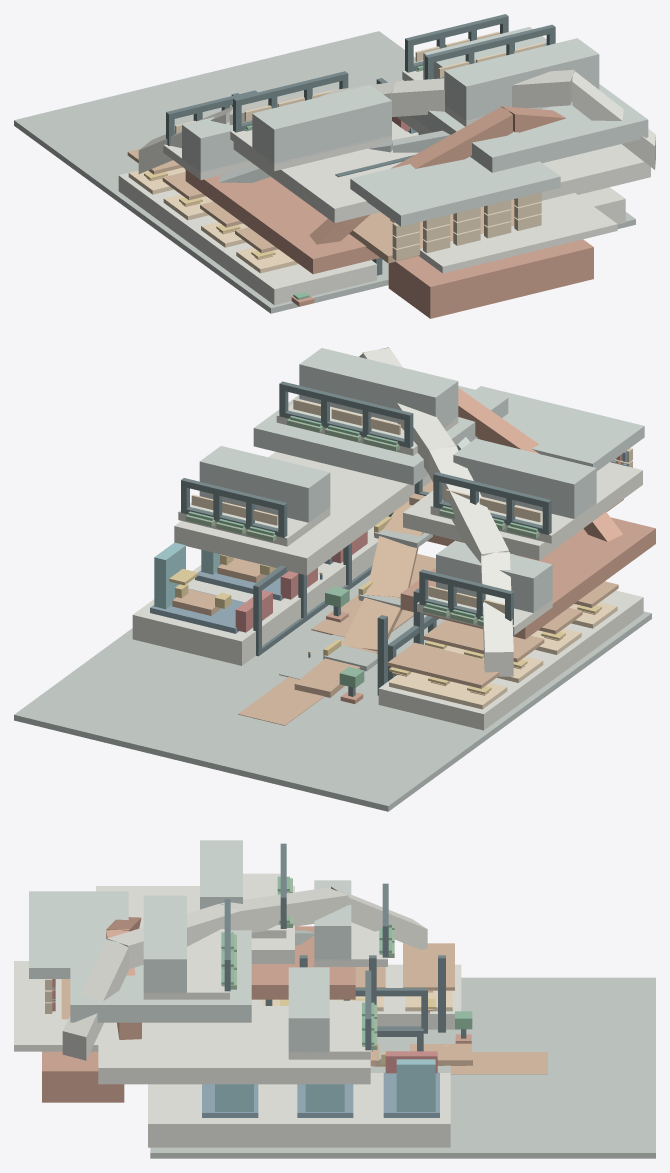
Rendered from a43_inhabited_seam.glb.
3 renders of one model, top to bottom at view 1: azimuth 30°, elevation 25°; view 2: azimuth 150°, elevation 25°; view 3: azimuth 270°, elevation 25°, orthographic. The views are drawn at different scales.
Size of the model in its own units: 96 by 45.9 by 148.
